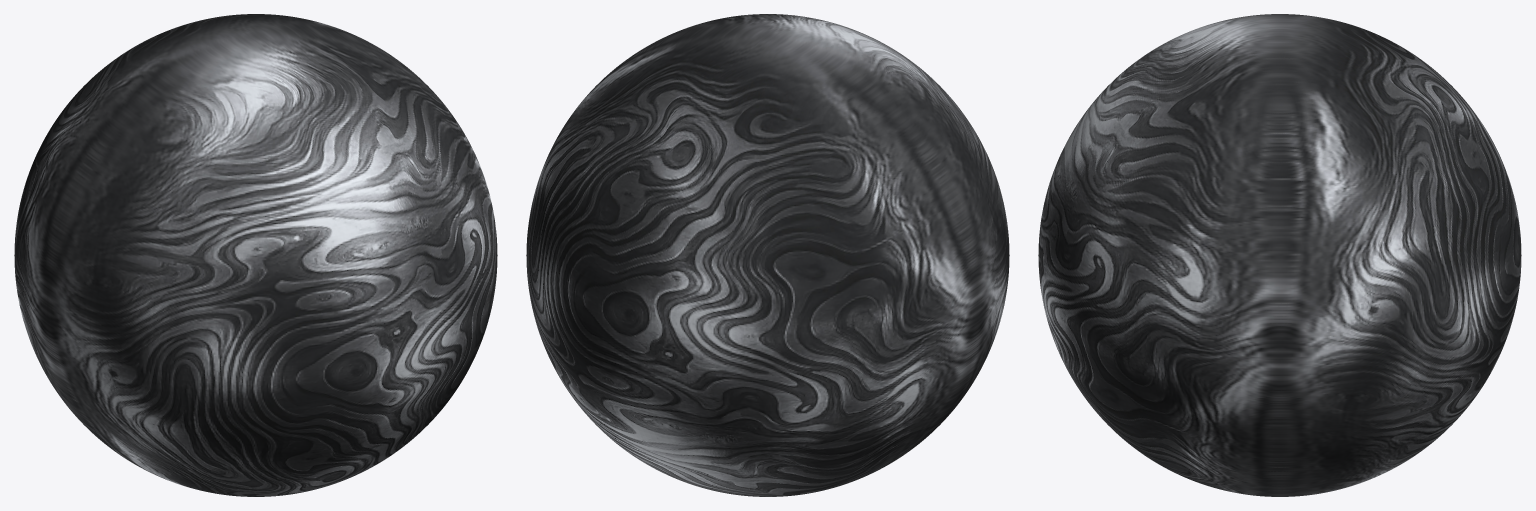
The model's file is dgsphere.glb.
3 views of the same model, side by side, from view 1: azimuth 30°, elevation 25°; view 2: azimuth 150°, elevation 25°; view 3: azimuth 270°, elevation 25° (orthographic).
Parts seen in each view (by area): view 1: world; view 2: world; view 3: world.
Part boxes in pixels (left/top/right/bottom): world: left=14, top=14, right=497, bottom=496; world: left=526, top=14, right=1009, bottom=496; world: left=1038, top=14, right=1521, bottom=496.
Bounding box in the file's own units: 2 × 2 × 2.
Materials: 1 (1 with a texture image).
